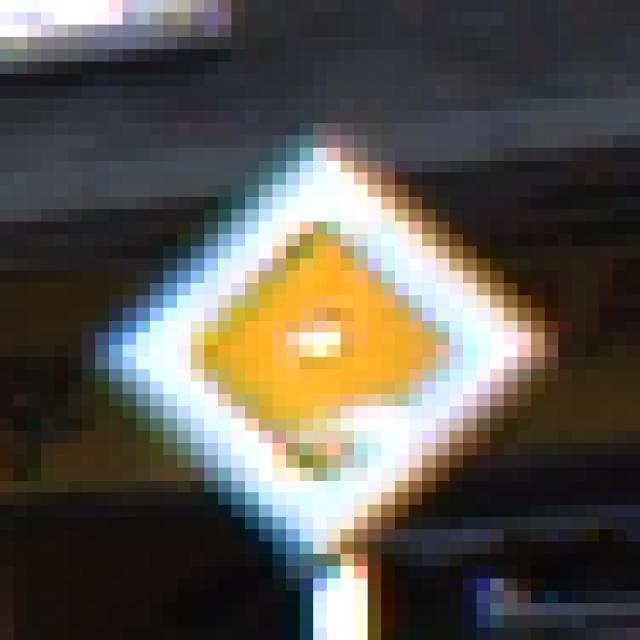Main Road: (83, 75, 573, 579)
